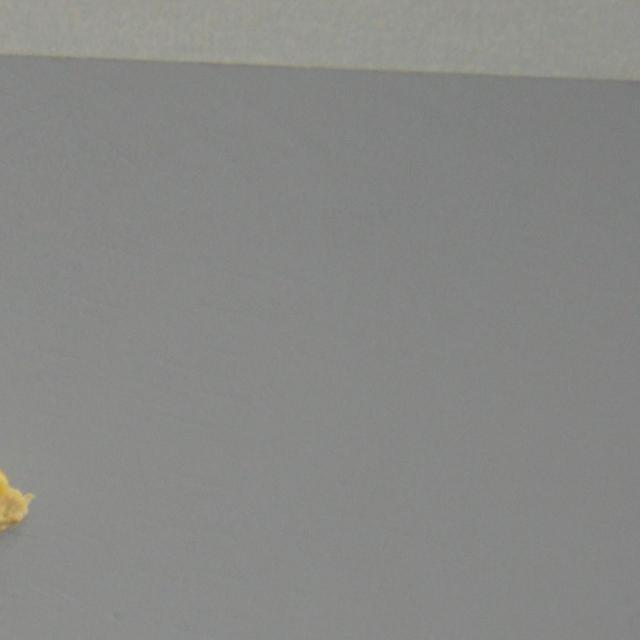entero: (0, 444, 40, 551)
